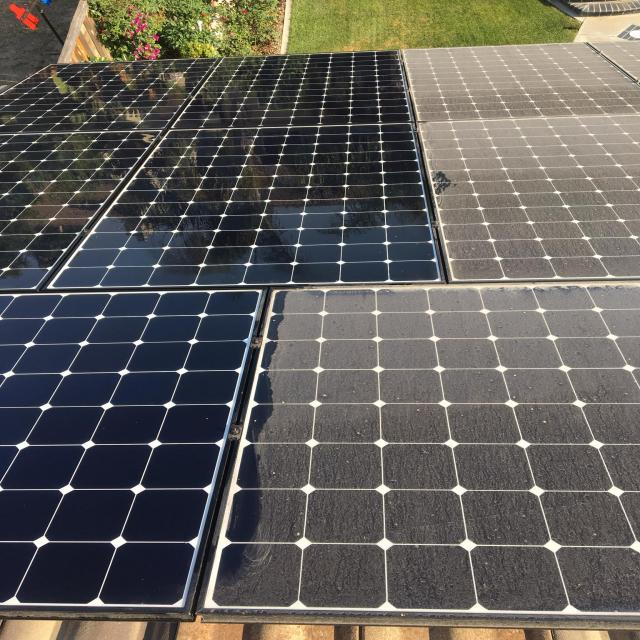dust-solar-panel: (232, 36, 640, 622)
